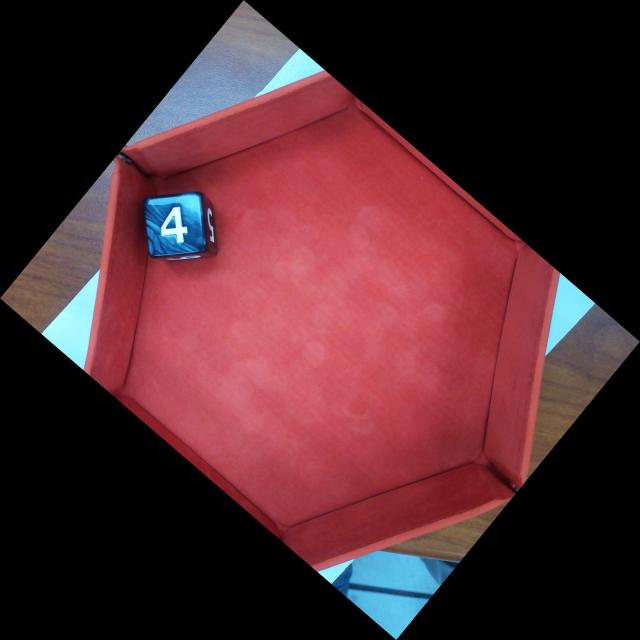dice: (148, 194, 207, 258)
